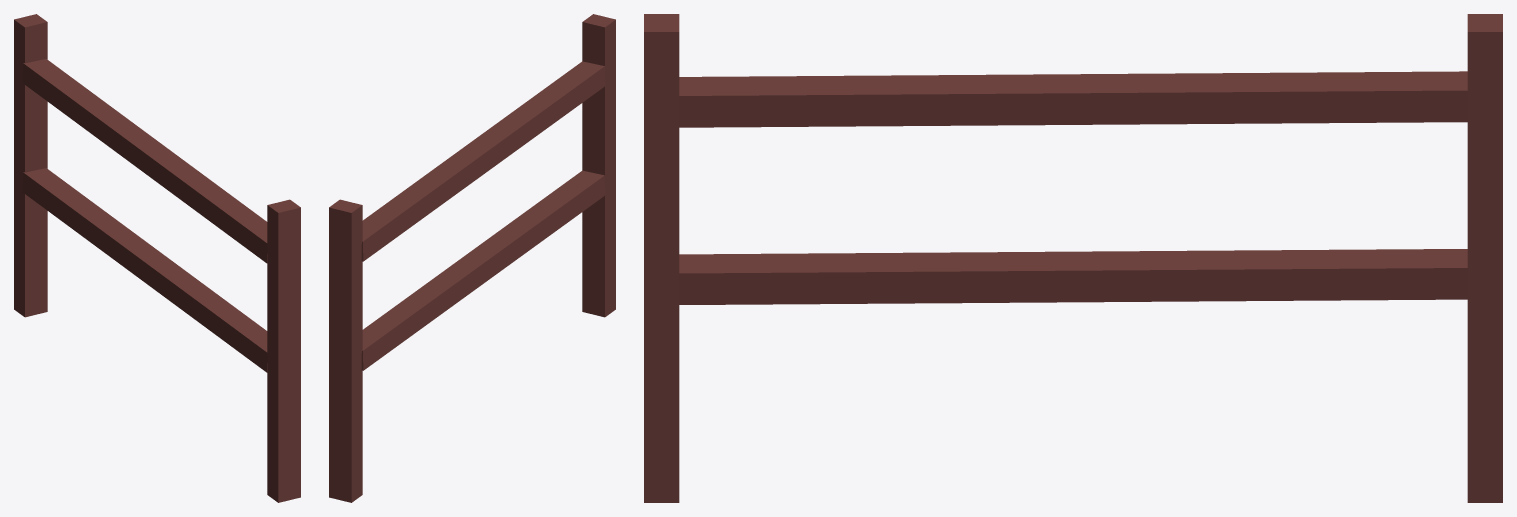
Rendered from Fence.fbx.
3 views of the same model, side by side, from view 1: azimuth 30°, elevation 25°; view 2: azimuth 150°, elevation 25°; view 3: azimuth 270°, elevation 25° (orthographic). The views are drawn at different scales.
Visible parts, largest first — view 1: Cube; view 2: Cube; view 3: Cube.
Part boxes in pixels (bbox=[...]): Cube: bbox=[14, 14, 300, 502]; Cube: bbox=[329, 14, 615, 502]; Cube: bbox=[644, 14, 1502, 502].
Size of the model in its own units: 14.08 by 160 by 264.
